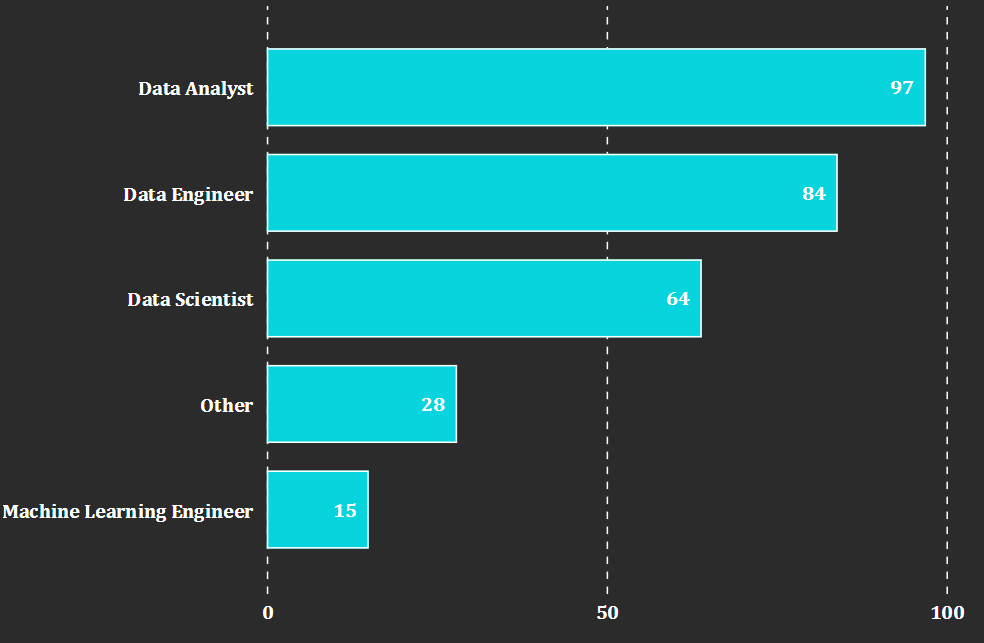

This screenshot's page, from the dashboard's own definition file:
{"tool":"powerbi","page":{"name":"Job Titles Tooltip","canvas":[320,240],"ordinal":2},"visuals":[{"type":"clusteredBarChart","title":"Job Titles Frequency","fields":{"Category":["Final_Cleaned_Dataset.job_title_short"],"Y":["CountNonNull(Final_Cleaned_Dataset.job_title_short)"]},"box":[0,0,320,240],"z":0}]}

Visuals, with their boxes on the page's 320x240 design canvas (x1, y1, x2, y2). These are canvas units, not pixel positions in the 984x643 screenshot, which may show the page scaled, cropped or inside an application window:
"Job Titles Frequency" clusteredBarChart: Rect(0, 0, 320, 240)
